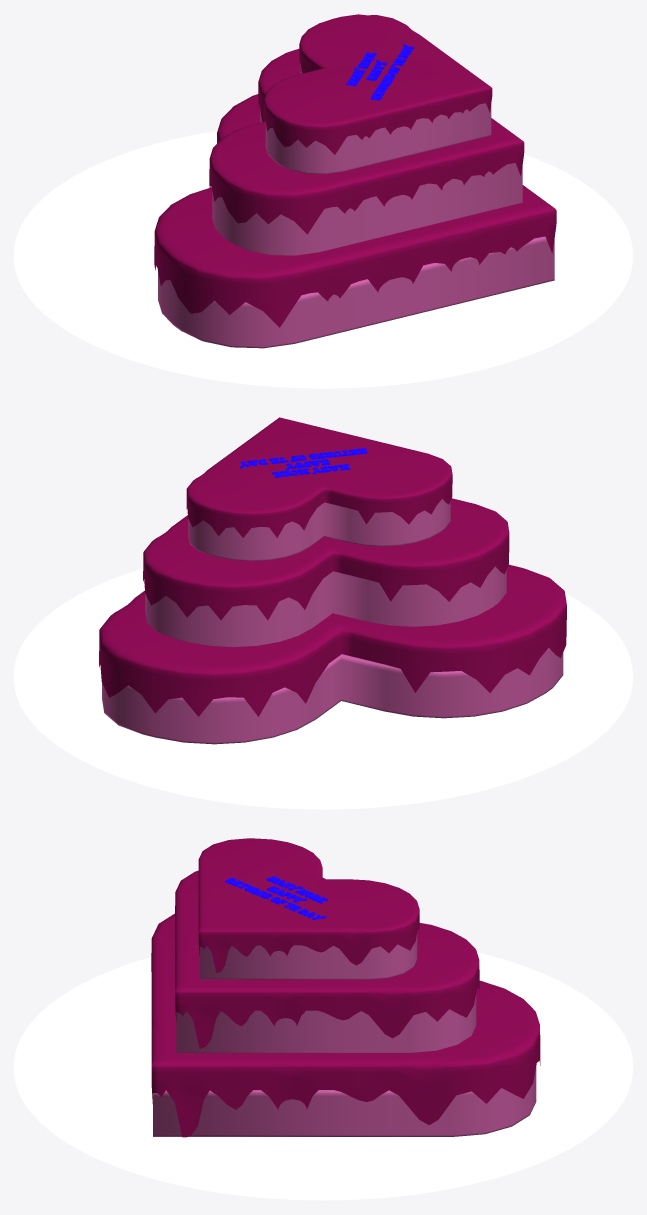
File: cake2-QbHuqy3S.glb
3 views of the same model, one above another, from view 1: azimuth 30°, elevation 25°; view 2: azimuth 150°, elevation 25°; view 3: azimuth 270°, elevation 25° (orthographic).
Visible parts, largest first — view 1: Cylinder, Cube.001, Cube.005, Cube.003, Cube, Cube.002, Cube.004, Text; view 2: Cylinder, Cube.001, Cube.003, Cube.005, Cube, Cube.002, Cube.004, Text; view 3: Cylinder, Cube.001, Cube.005, Cube.003, Cube, Cube.002, Cube.004, Text.
Part boxes in pixels (left/top/right/bottom): Cylinder: left=14, top=131, right=632, bottom=388; Cube.001: left=154, top=94, right=556, bottom=327; Cube.005: left=263, top=14, right=492, bottom=154; Cube.003: left=209, top=49, right=524, bottom=234; Cube: left=158, top=236, right=554, bottom=348; Cube.002: left=212, top=109, right=522, bottom=255; Cube.004: left=265, top=65, right=491, bottom=174; Text: left=346, top=44, right=413, bottom=100; Cylinder: left=14, top=568, right=632, bottom=809; Cube.001: left=99, top=564, right=566, bottom=716; Cube.003: left=143, top=498, right=509, bottom=620; Cube.005: left=186, top=417, right=452, bottom=537; Cube: left=102, top=648, right=563, bottom=744; Cube.002: left=145, top=566, right=506, bottom=647; Cube.004: left=188, top=499, right=450, bottom=561; Text: left=240, top=448, right=367, bottom=477; Cylinder: left=14, top=952, right=632, bottom=1200; Cube.001: left=151, top=913, right=540, bottom=1137; Cube.005: left=198, top=838, right=419, bottom=972; Cube.003: left=175, top=870, right=479, bottom=1048; Cube: left=153, top=1067, right=536, bottom=1136; Cube.002: left=176, top=994, right=476, bottom=1052; Cube.004: left=199, top=933, right=417, bottom=979; Text: left=225, top=876, right=327, bottom=920.
Bounding box in the file's own units: 7.37 × 2.53 × 7.37.
